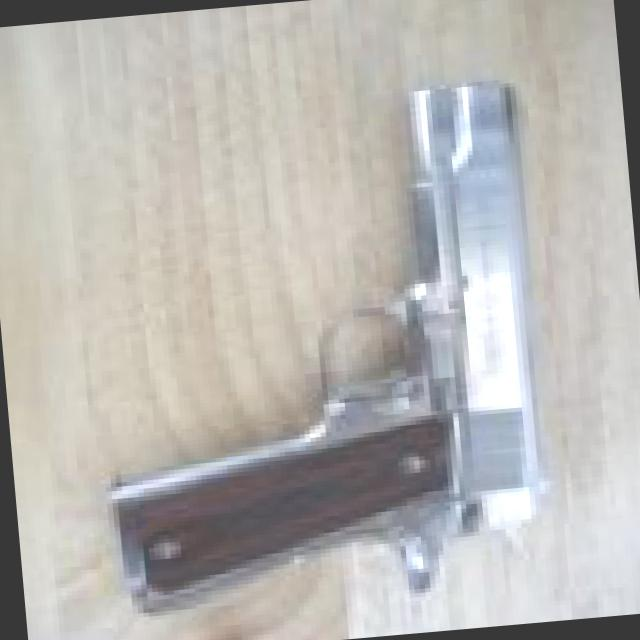handgun: (87, 69, 568, 622)
